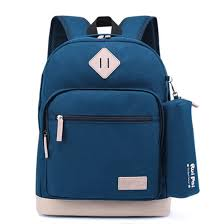bag: (37, 14, 196, 217)
